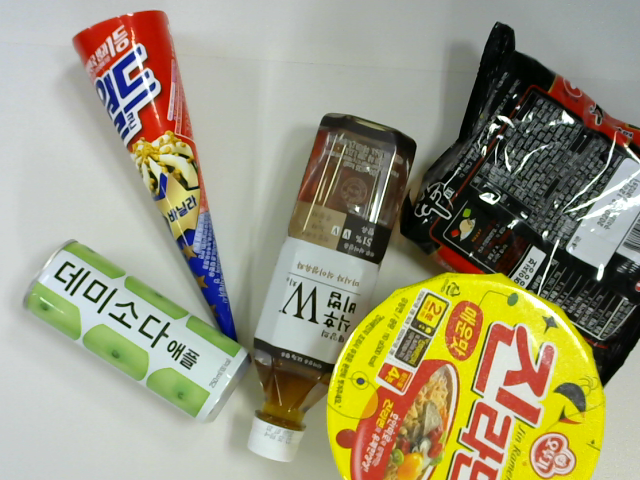Demisoda_Apple_Can_250ml: (22, 241, 249, 427)
Jinlamyeon_Hot_Taste_Large_Cup: (328, 272, 603, 480)
Post-meal_recipe_W_tea_500ml: (247, 115, 416, 467)
Sinramen_Black: (407, 30, 640, 387)
World_Cone_Banila: (73, 11, 243, 362)
